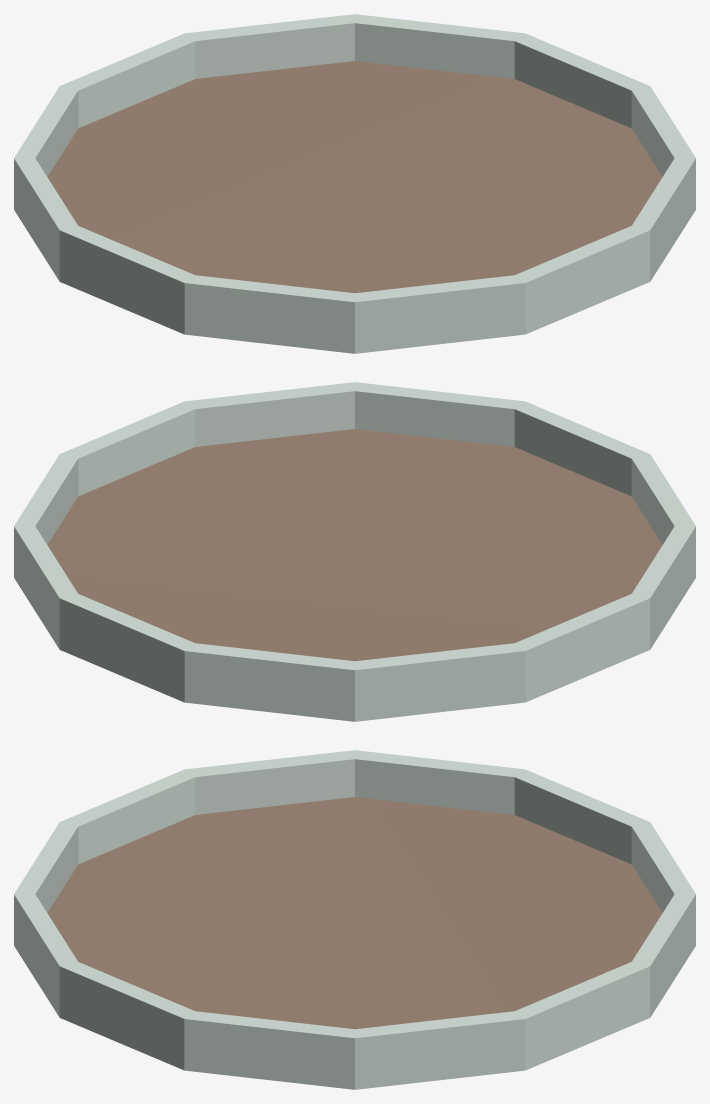
Rendered from PetriDish.fbx.
The picture shows the model from 3 angles, top to bottom: view 1: azimuth 30°, elevation 25°; view 2: azimuth 150°, elevation 25°; view 3: azimuth 270°, elevation 25°; orthographic projection.
Parts seen in each view (by area): view 1: PetriDish; view 2: PetriDish; view 3: PetriDish.
Boxes of the visible parts, x1=… form: PetriDish: x1=14, y1=14, x2=695, y2=353; PetriDish: x1=14, y1=382, x2=695, y2=721; PetriDish: x1=14, y1=750, x2=695, y2=1089.
Bounding box in the file's own units: 42.48 × 3.54 × 42.48.
